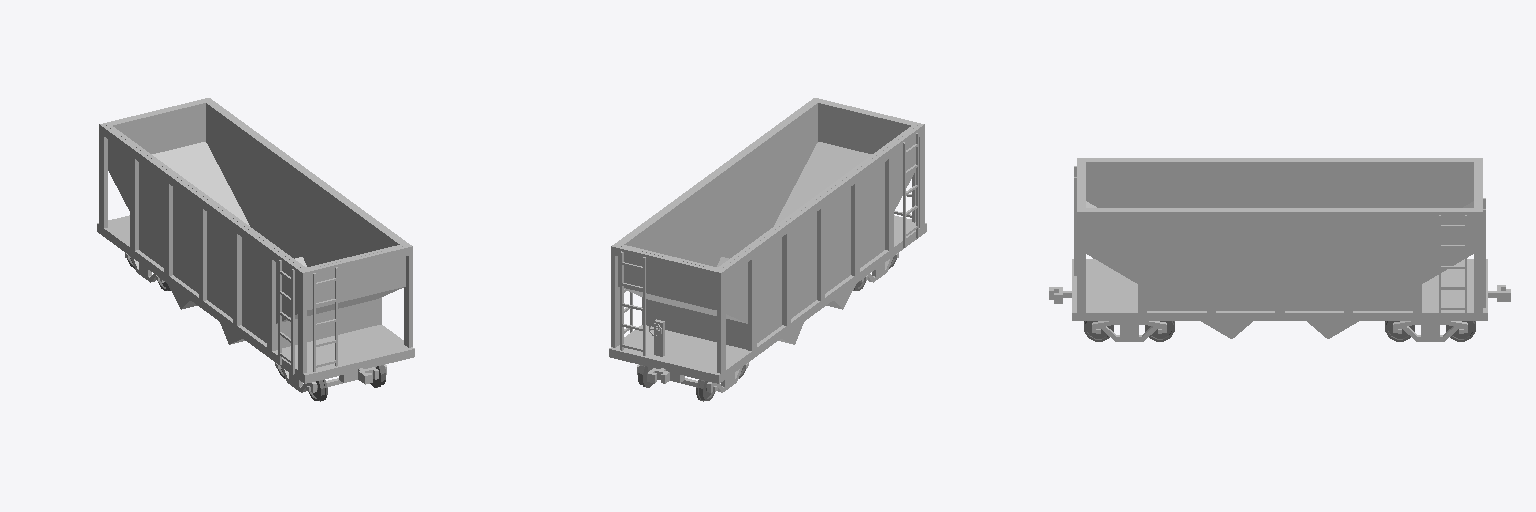
The model's file is dlxtrains_industrial_wagons_hopper_type1.obj.
3 views of the same model, side by side, from view 1: azimuth 30°, elevation 25°; view 2: azimuth 150°, elevation 25°; view 3: azimuth 270°, elevation 25° (orthographic).
Visible parts, largest first — view 1: dlxtrains_industrial_wagons_hopper_type1; view 2: dlxtrains_industrial_wagons_hopper_type1; view 3: dlxtrains_industrial_wagons_hopper_type1.
Part boxes in pixels (x1,y1,x2,y2): dlxtrains_industrial_wagons_hopper_type1: (97,98,414,401); dlxtrains_industrial_wagons_hopper_type1: (609,98,926,401); dlxtrains_industrial_wagons_hopper_type1: (1049,158,1510,341).
Bounding box in the file's own units: 17.5 × 20.75 × 61.25.